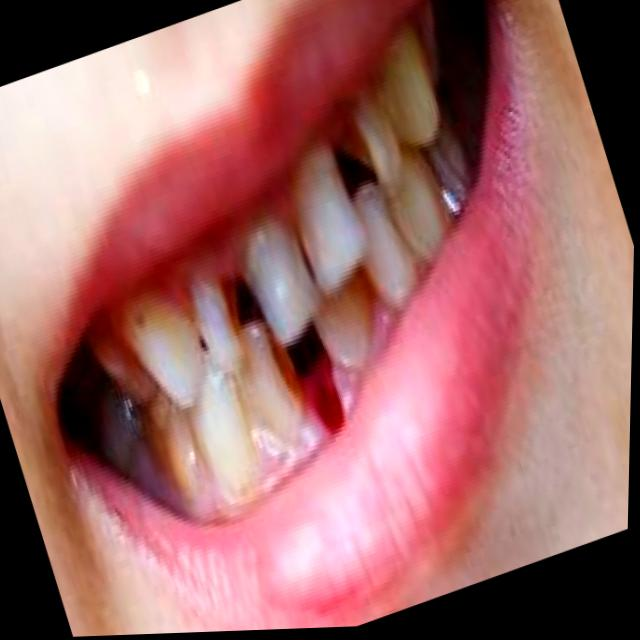hypodontia: (261, 313, 351, 432), (201, 239, 284, 358), (316, 110, 394, 216)
tooth-discoloration: (139, 397, 211, 508), (354, 264, 390, 332)
